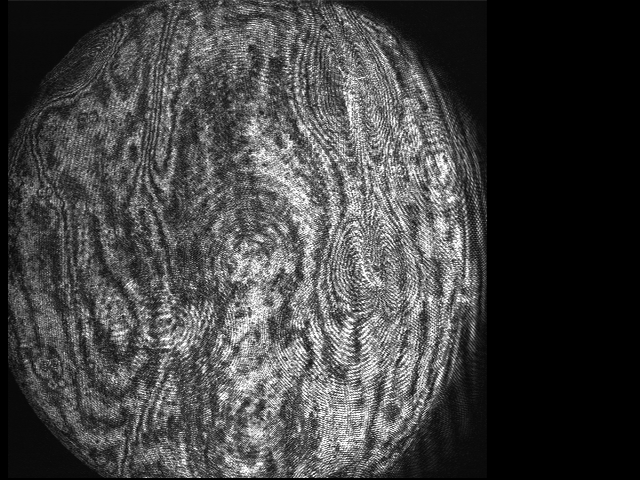plume: (332, 221, 418, 320)
